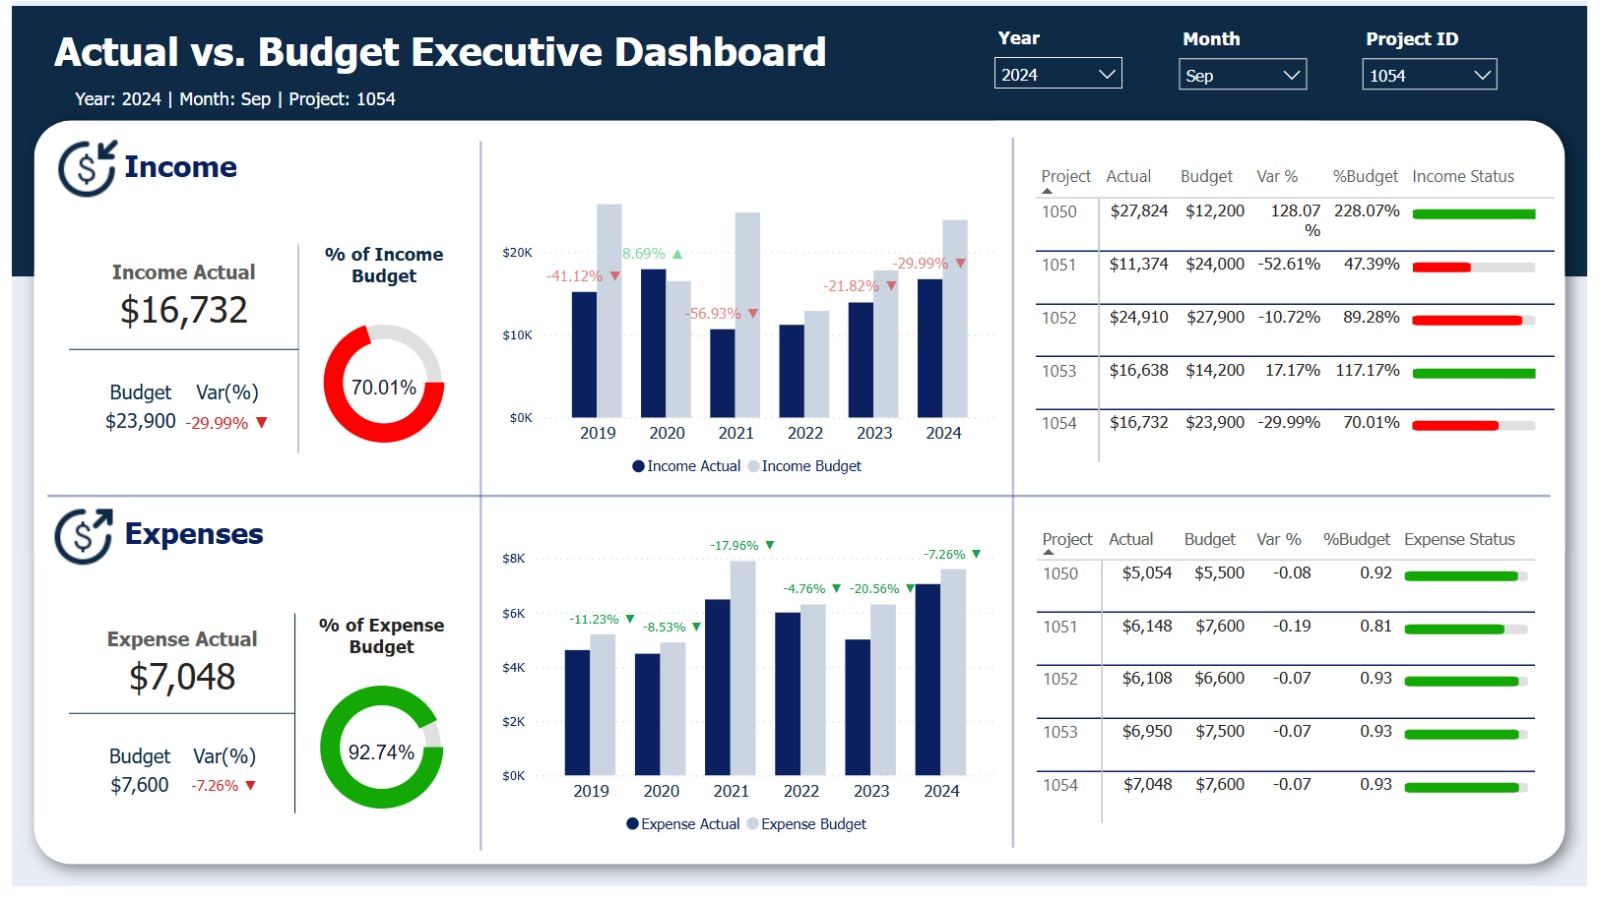

The dashboard page shown, as its layout file describes it:
{"tool":"powerbi","page":{"name":"Page 1","canvas":[1280,720],"ordinal":0},"visuals":[{"type":"shape","box":[0,0,1280.3,720.2],"z":0},{"type":"shape","box":[0,4.5,1280.6,219.4],"z":1000},{"type":"shape","box":[0,78.6,1280,641.4],"z":2000},{"type":"slicer","fields":{"Values":["PMP.Project_ID"]},"box":[1086.7,16.7,130,73.3],"z":3000},{"type":"slicer","fields":{"Values":["PMP.Month Name"]},"box":[938.3,16.7,123.3,73.3],"z":4000},{"type":"shape","box":[28.6,211.4,1221.4,382.9],"z":5000},{"type":"cardVisual","fields":{"Data":["Key Measures.Income Actual"]},"box":[31.4,178.6,218.9,208.6],"z":6000},{"type":"cardVisual","fields":{"Data":["Key Measures.Expense Actual"]},"box":[28.6,478.6,218.4,201.2],"z":7000},{"type":"shape","box":[705.7,111.4,215.7,577.1],"z":8000},{"type":"cardVisual","title":"% of Expense Budget","fields":{"Data":["Key Measures.% of Expense Budget"]},"box":[234.7,497.6,130.1,182.2],"z":9000},{"type":"shape","box":[272.9,114.3,215.7,577.1],"z":10000},{"type":"slicer","fields":{"Values":["PMP.Year"]},"box":[788.1,16.4,123.9,73.1],"z":11000},{"type":"cardVisual","title":"% of Income Budget","fields":{"Data":["Key Measures.% of Income Budget"]},"box":[237.6,196.9,128.1,190.3],"z":12000},{"type":"clusteredColumnChart","fields":{"Y":["Key Measures.Income Actual","Key Measures.Income Budget"],"Category":["PMP.Year"]},"box":[393.3,126.7,411.7,270],"z":13000},{"type":"clusteredColumnChart","fields":{"Y":["Key Measures.Expense Actual","Key Measures.Expense Budget"],"Category":["PMP.Year"]},"box":[393.3,420,411.1,267.8],"z":14000},{"type":"textbox","box":[85.7,114.3,112.9,45.7],"z":15000,"group":"g1"},{"type":"pivotTable","fields":{"Rows":["PMP.Project_ID"],"Values":["Key Measures.Income Actual","Key Measures.Income Budget","Key Measures.Income Variance %","Key Measures.% of Income Budget","Key Measures.Income Bar Chart"]},"box":[825.7,127.1,434.3,255.7],"z":15000},{"type":"textbox","box":[85.7,412.9,137.1,45.7],"z":16000,"group":"g2"},{"type":"pivotTable","fields":{"Rows":["PMP.Project_ID"],"Values":["Key Measures.Expense Actual","Key Measures.Expense Budget","Key Measures.Expense Variance %","Key Measures.% of Expense Budget","Key Measures.Expense Bar Chart"]},"box":[827.1,422.9,432.9,254.3],"z":16000},{"type":"textbox","box":[28.8,16.2,696.2,51.2],"z":17000},{"type":"cardVisual","fields":{"Data":["Key Measures.Dynamic Header"]},"box":[28.8,53.8,626.2,48.8],"z":18000},{"type":"image","box":[31.5,90,57.1,94.3],"z":18000,"group":"g1"},{"type":"group","id":"g1","title":"Group 2","box":[28.6,90,194.3,392.9],"z":19000},{"type":"image","box":[28.6,388.6,57.1,94.3],"z":19000,"group":"g2"},{"type":"group","id":"g2","title":"Group 1","box":[28.6,388.6,194.3,94.3],"z":19002,"group":"g1"}]}

Visuals, with their boxes in screenshot pixels (x1, y1, x2, y2), scaled from the page's 1280x720 canvas onto the 1600x902 screenshot:
shape: pyautogui.locateOnScreen(0, 0, 1599, 901)
shape: pyautogui.locateOnScreen(0, 6, 1599, 280)
shape: pyautogui.locateOnScreen(0, 98, 1599, 901)
slicer - PMP.Project_ID: pyautogui.locateOnScreen(1358, 21, 1521, 113)
slicer - PMP.Month Name: pyautogui.locateOnScreen(1173, 21, 1327, 113)
shape: pyautogui.locateOnScreen(36, 265, 1562, 745)
cardVisual - Key Measures.Income Actual: pyautogui.locateOnScreen(39, 224, 313, 485)
cardVisual - Key Measures.Expense Actual: pyautogui.locateOnScreen(36, 600, 309, 852)
shape: pyautogui.locateOnScreen(882, 140, 1152, 863)
"% of Expense Budget" cardVisual: pyautogui.locateOnScreen(293, 623, 456, 852)
shape: pyautogui.locateOnScreen(341, 143, 611, 866)
slicer - PMP.Year: pyautogui.locateOnScreen(985, 21, 1140, 112)
"% of Income Budget" cardVisual: pyautogui.locateOnScreen(297, 247, 457, 485)
clusteredColumnChart - Key Measures.Income Actual x Key Measures.Income Budget: pyautogui.locateOnScreen(492, 159, 1006, 497)
clusteredColumnChart - Key Measures.Expense Actual x Key Measures.Expense Budget: pyautogui.locateOnScreen(492, 526, 1006, 862)
textbox: pyautogui.locateOnScreen(107, 143, 248, 200)
pivotTable - PMP.Project_ID x Key Measures.Income Actual: pyautogui.locateOnScreen(1032, 159, 1575, 480)
textbox: pyautogui.locateOnScreen(107, 517, 278, 575)
pivotTable - PMP.Project_ID x Key Measures.Expense Actual: pyautogui.locateOnScreen(1034, 530, 1575, 848)
textbox: pyautogui.locateOnScreen(36, 20, 906, 84)
cardVisual - Key Measures.Dynamic Header: pyautogui.locateOnScreen(36, 67, 819, 129)
image: pyautogui.locateOnScreen(39, 113, 111, 231)
"Group 2" group: pyautogui.locateOnScreen(36, 113, 279, 605)
image: pyautogui.locateOnScreen(36, 487, 107, 605)
"Group 1" group: pyautogui.locateOnScreen(36, 487, 279, 605)
